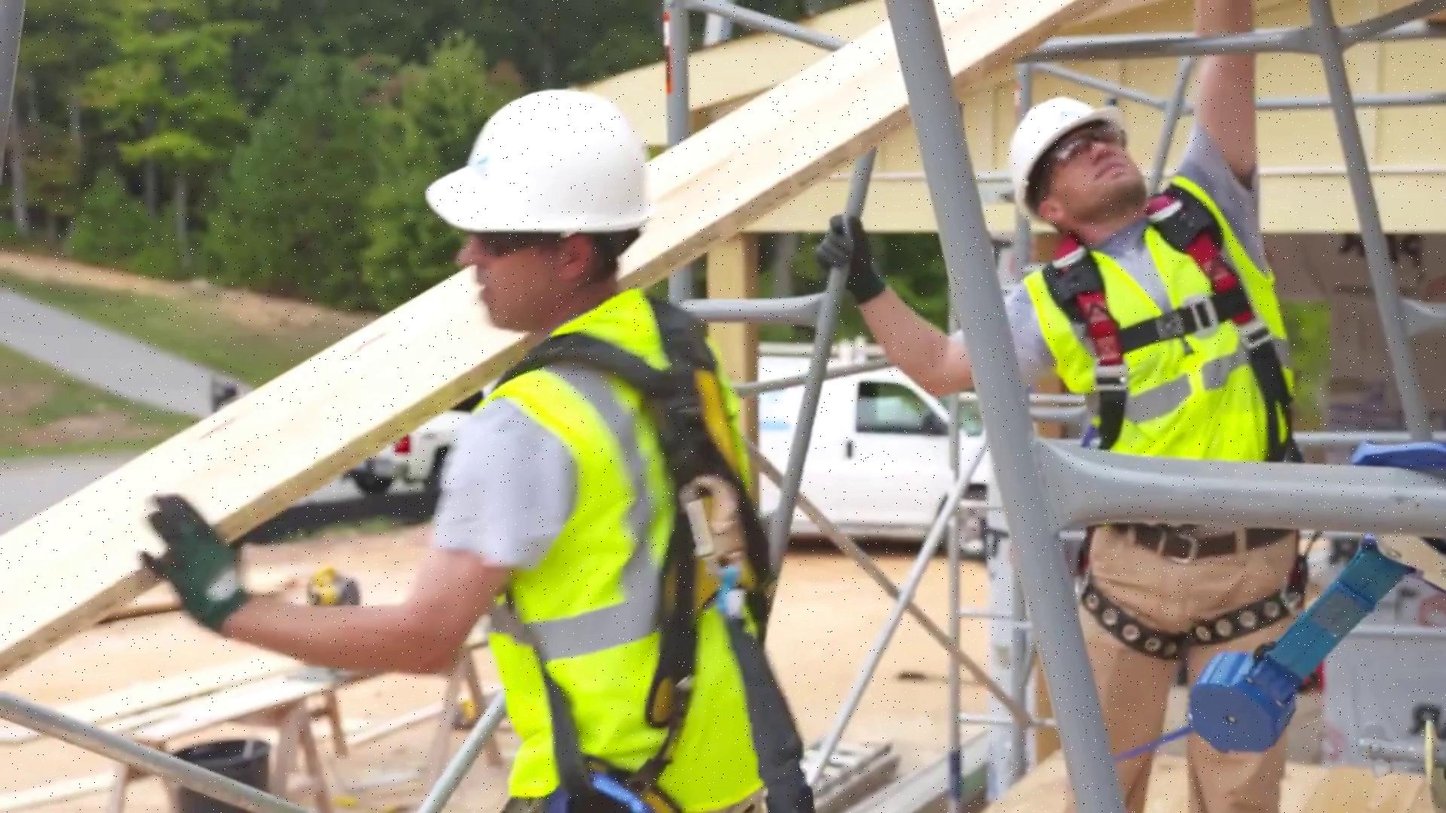Hard_hat: (426, 82, 661, 234), (1009, 88, 1113, 196)
Vest: (457, 329, 744, 813), (1051, 192, 1275, 508)
